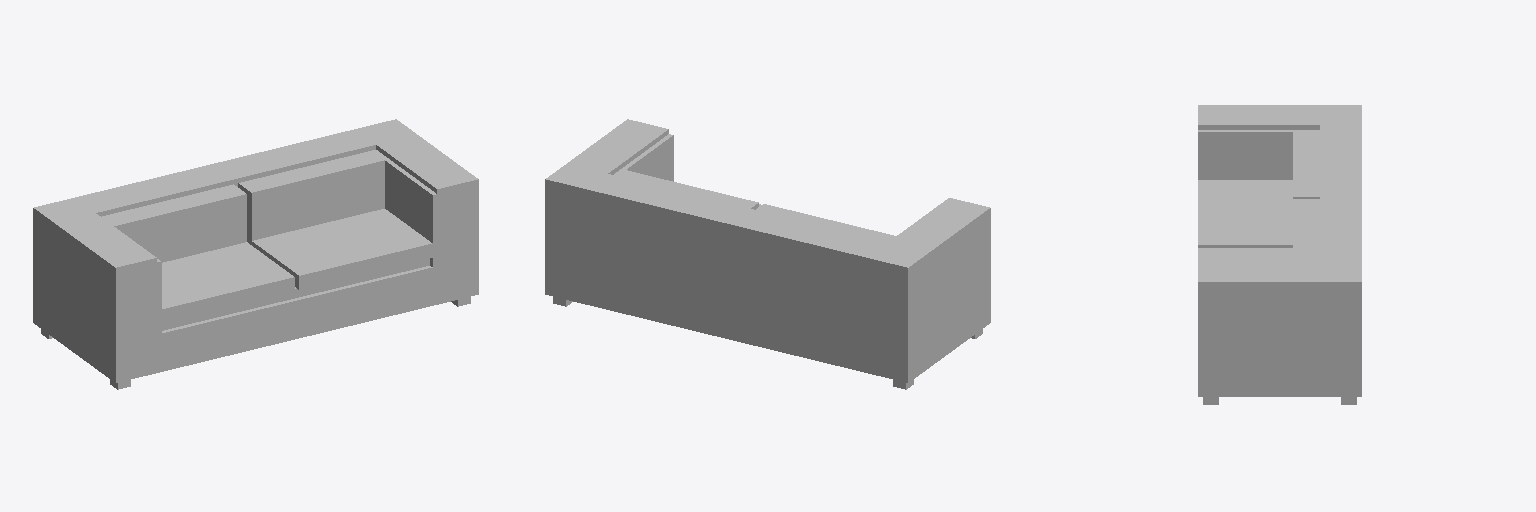
File: Couch2.obj
3 views of the same model, side by side, from view 1: azimuth 30°, elevation 25°; view 2: azimuth 150°, elevation 25°; view 3: azimuth 270°, elevation 25° (orthographic).
Parts seen in each view (by area): view 1: Couch2; view 2: Couch2; view 3: Couch2.
Part boxes in pixels (x1,y1,x2,y2): Couch2: (33, 119, 478, 389); Couch2: (545, 119, 990, 389); Couch2: (1198, 105, 1361, 404).
Size of the model in its own units: 79 by 26 by 31.